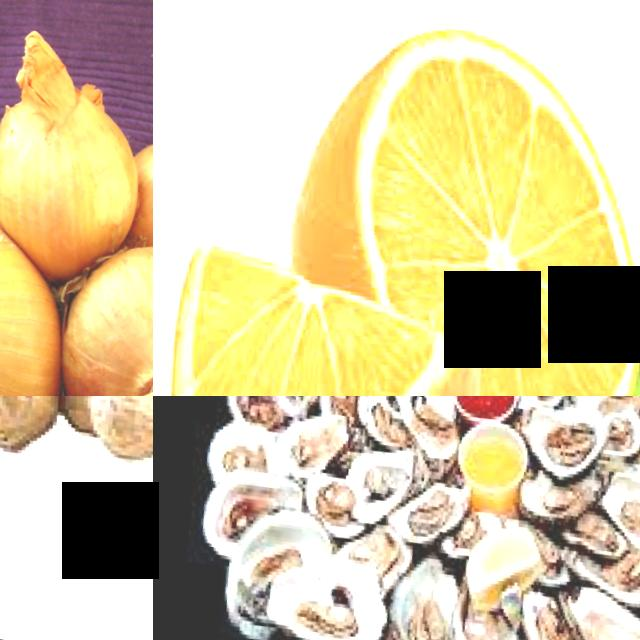lemon: (442, 517, 538, 611)
onion: (0, 77, 151, 289), (25, 238, 153, 396), (0, 215, 78, 396), (108, 129, 153, 279)
orange: (247, 0, 640, 345), (153, 267, 493, 396)
oysters: (243, 551, 382, 640), (513, 402, 607, 491), (367, 554, 461, 640), (327, 440, 415, 531), (382, 473, 464, 555), (584, 473, 640, 559), (203, 396, 292, 433), (560, 396, 640, 433)
peanuts: (43, 396, 153, 463), (0, 396, 56, 462)
